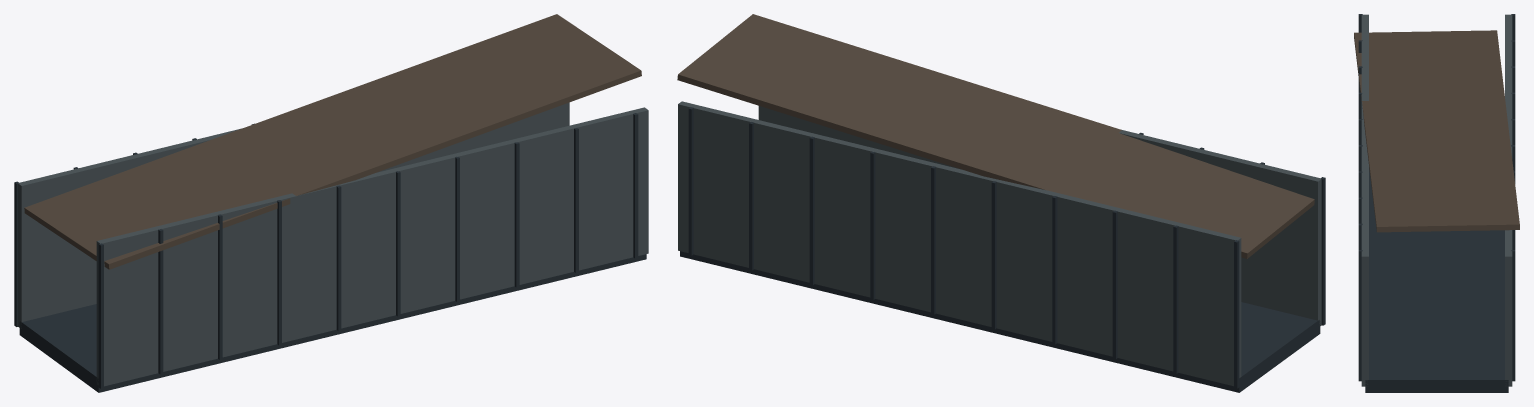
File: broken-container-1.glb
The picture shows the model from 3 angles, left to right: view 1: azimuth 30°, elevation 25°; view 2: azimuth 150°, elevation 25°; view 3: azimuth 270°, elevation 25°; orthographic projection. The views are drawn at different scales.
Visible parts, largest first — view 1: broken-container/0/KR-230-1; view 2: broken-container/0/KR-230-1; view 3: broken-container/0/KR-230-1.
Part boxes in pixels (x1,y1,x2,y2): broken-container/0/KR-230-1: (14, 14, 648, 392); broken-container/0/KR-230-1: (677, 14, 1325, 392); broken-container/0/KR-230-1: (1354, 14, 1519, 392).
Bounding box in the file's own units: 12.07 × 3.85 × 3.48.
